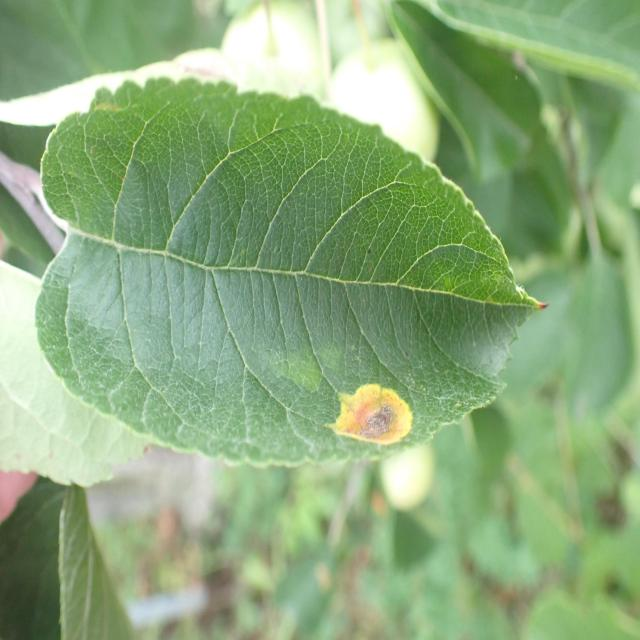rust: (33, 75, 552, 470)
